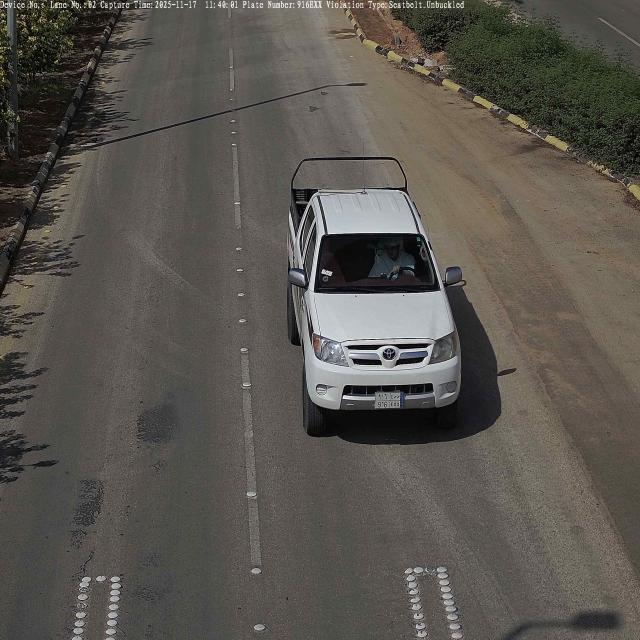person_without_seatbelt: (373, 236, 415, 278)
